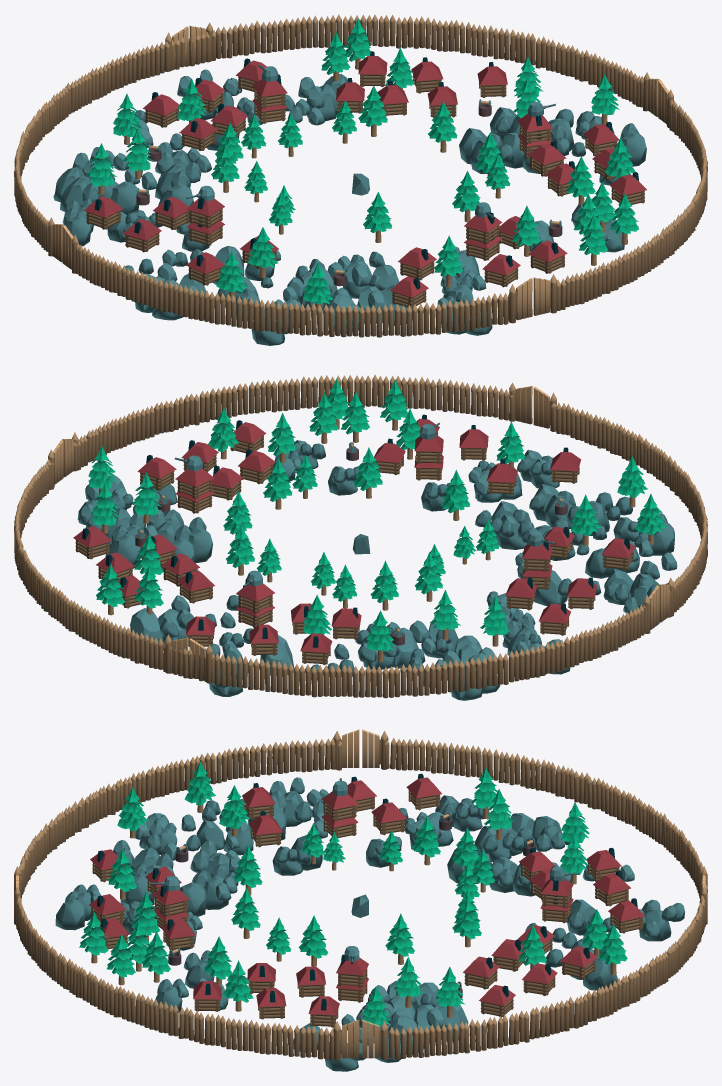
The model's file is stage_2.fbx.
The picture shows the model from 3 angles, top to bottom: view 1: azimuth 30°, elevation 25°; view 2: azimuth 150°, elevation 25°; view 3: azimuth 270°, elevation 25°; orthographic projection.
Visible parts, largest first — view 1: Circle.068, gate.004|Circle.085|Dupli|1, tree.044|Cylinder|Dupli|, tree.065|Cylinder|Dupli|, tree.068|Cylinder|Dupli|, tree.063|Cylinder|Dupli|, tree.079|Cylinder|Dupli|, tree.045|Cylinder|Dupli|, tree.041|Cylinder|Dupli|, tree.073|Cylinder|Dupli|, tree.059|Cylinder|Dupli|, tree.071|Cylinder|Dupli| (+30 smaller); view 2: Circle.068, gate.004|Circle.085|Dupli|1, tree.075|Cylinder|Dupli|, tree.042|Cylinder|Dupli|, tree.045|Cylinder|Dupli|, tree.070|Cylinder|Dupli|, tree.040|Cylinder|Dupli|, tree.076|Cylinder|Dupli|, tree.041|Cylinder|Dupli|, tree.071|Cylinder|Dupli|, tree.072|Cylinder|Dupli|, tree.058|Cylinder|Dupli| (+35 smaller); view 3: Circle.068, gate.006|Circle.085|Dupli|1, gate.005|Circle.085|Dupli|1, tree.060|Cylinder|Dupli|, tree.058|Cylinder|Dupli|, tree.059|Cylinder|Dupli|, tree.044|Cylinder|Dupli|, tree.040|Cylinder|Dupli|, tree.075|Cylinder|Dupli|, tree.076|Cylinder|Dupli|, tree.042|Cylinder|Dupli|, tree.054|Cylinder|Dupli| (+30 smaller).
Boxes of the visible parts, x1,y1,x2,y2 form: Circle.068: (14,14,707,337); gate.004|Circle.085|Dupli|1: (516,277,550,320); tree.044|Cylinder|Dupli|: (428,101,457,152); tree.065|Cylinder|Dupli|: (86,143,116,194); tree.068|Cylinder|Dupli|: (113,93,141,144); tree.063|Cylinder|Dupli|: (123,128,153,179); tree.079|Cylinder|Dupli|: (434,235,463,287); tree.045|Cylinder|Dupli|: (358,85,387,136); tree.041|Cylinder|Dupli|: (363,192,391,242); tree.073|Cylinder|Dupli|: (590,74,619,124); tree.059|Cylinder|Dupli|: (248,227,278,277); tree.071|Cylinder|Dupli|: (321,31,350,81); Circle.068: (14,374,707,698); gate.004|Circle.085|Dupli|1: (516,386,549,428); tree.075|Cylinder|Dupli|: (208,408,238,459); tree.042|Cylinder|Dupli|: (263,458,292,509); tree.045|Cylinder|Dupli|: (226,524,254,575); tree.070|Cylinder|Dupli|: (96,563,125,615); tree.040|Cylinder|Dupli|: (353,447,382,498); tree.076|Cylinder|Dupli|: (309,392,338,443); tree.041|Cylinder|Dupli|: (441,469,470,520); tree.071|Cylinder|Dupli|: (134,565,163,615); tree.072|Cylinder|Dupli|: (131,472,161,523); tree.058|Cylinder|Dupli|: (617,456,647,507); Circle.068: (16,738,707,1060); gate.006|Circle.085|Dupli|1: (342,1019,379,1058); gate.005|Circle.085|Dupli|1: (342,729,379,767); tree.060|Cylinder|Dupli|: (184,761,215,812); tree.058|Cylinder|Dupli|: (117,787,148,838); tree.059|Cylinder|Dupli|: (219,785,249,836); tree.044|Cylinder|Dupli|: (385,913,414,964); tree.040|Cylinder|Dupli|: (231,887,260,938); tree.075|Cylinder|Dupli|: (222,960,253,1011); tree.076|Cylinder|Dupli|: (142,931,170,982); tree.042|Cylinder|Dupli|: (298,915,328,966); tree.054|Cylinder|Dupli|: (107,934,135,985).
Bounding box in the file's own units: 5070 × 636 × 5073.
2 materials, 2 textured.
